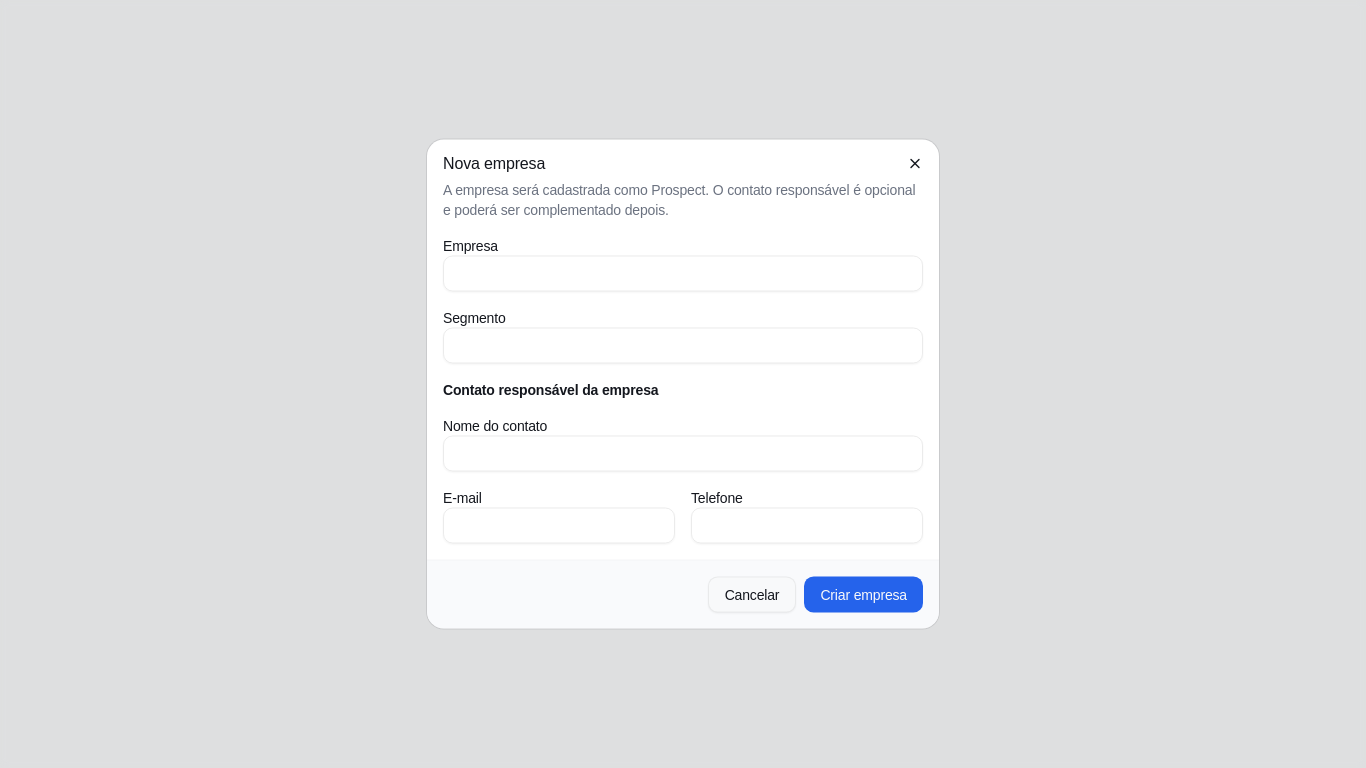
Test: CommercialCompanyDialog › bloqueia empresa duplicada antes de acessar o banco
Step 1. Type " nova sa " into the field labelled "Empresa" → [683, 274], box [443, 256, 923, 292]
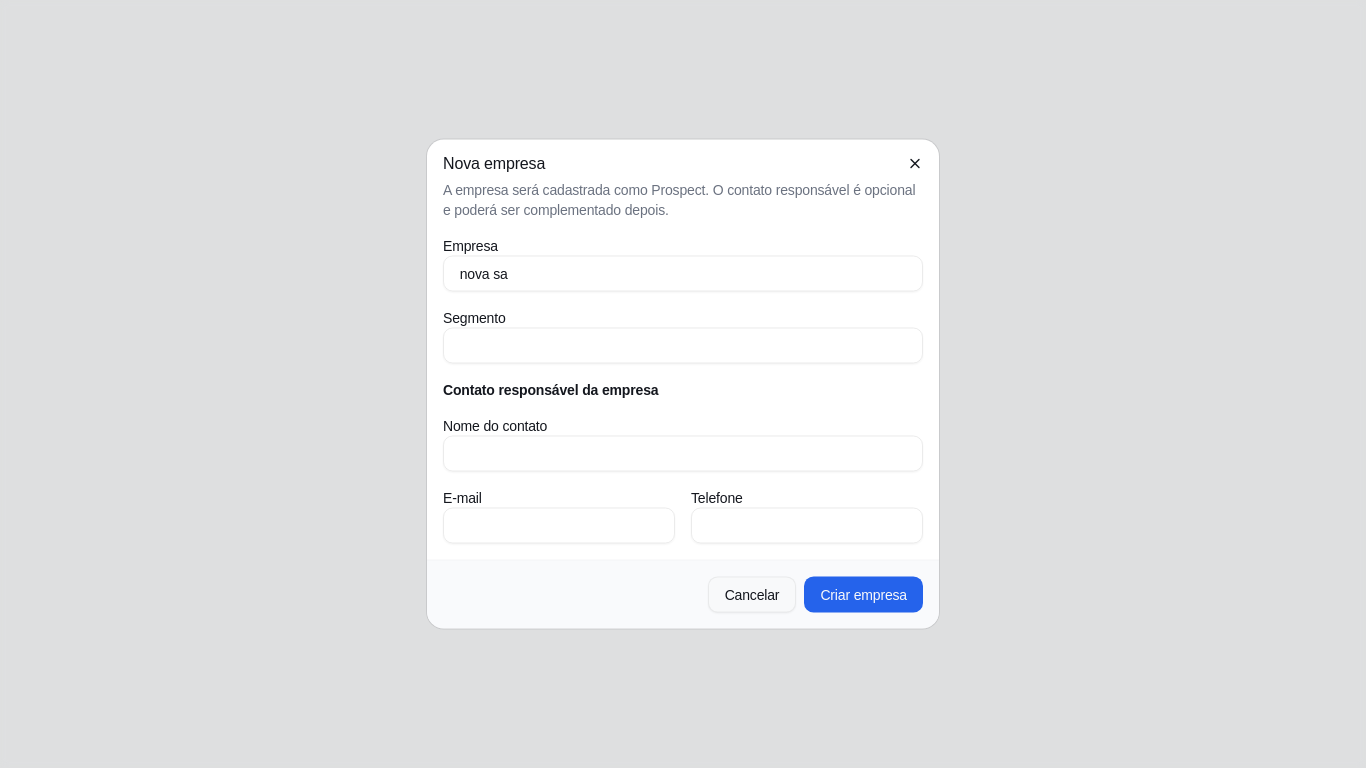
Step 2. Click the button "Criar empresa" → [864, 594], box [804, 576, 923, 612]
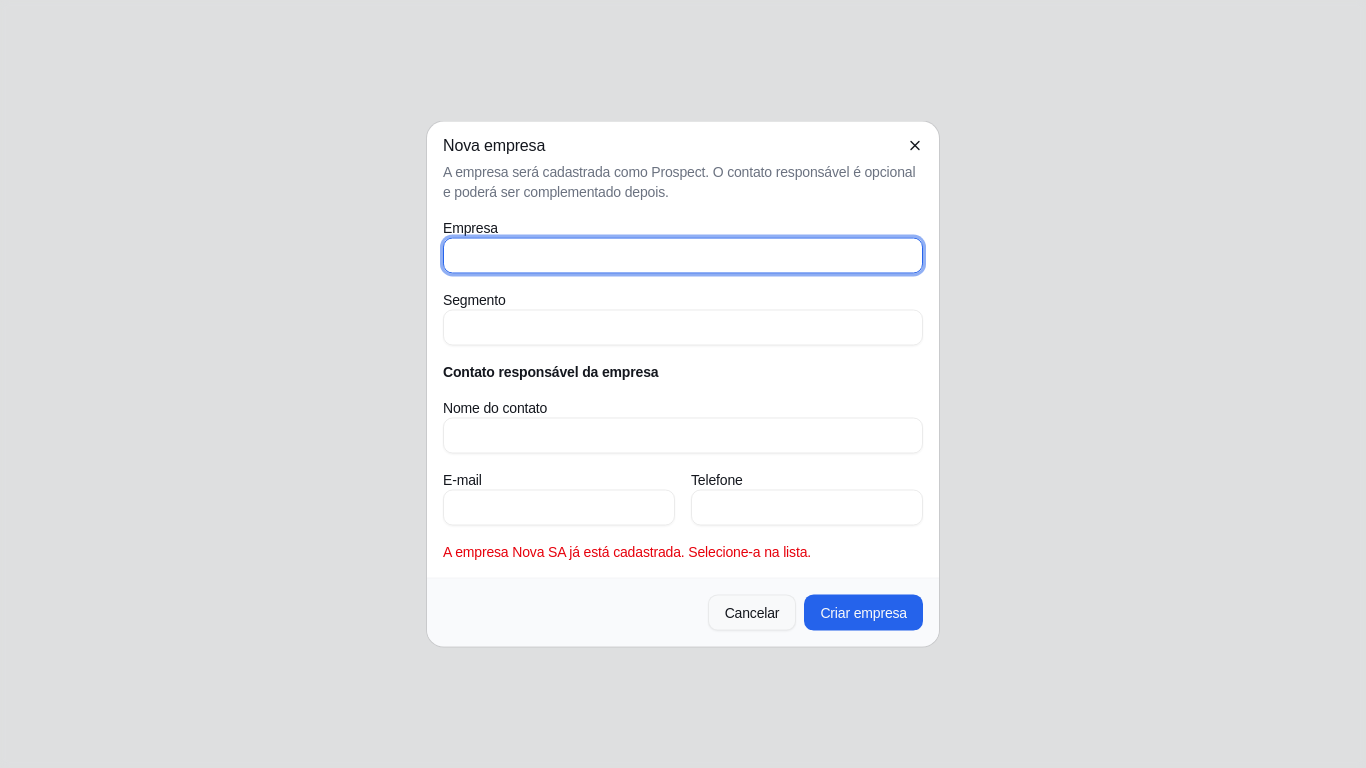
expect the message shows "já está cadastrada": met, box [443, 544, 811, 560]
